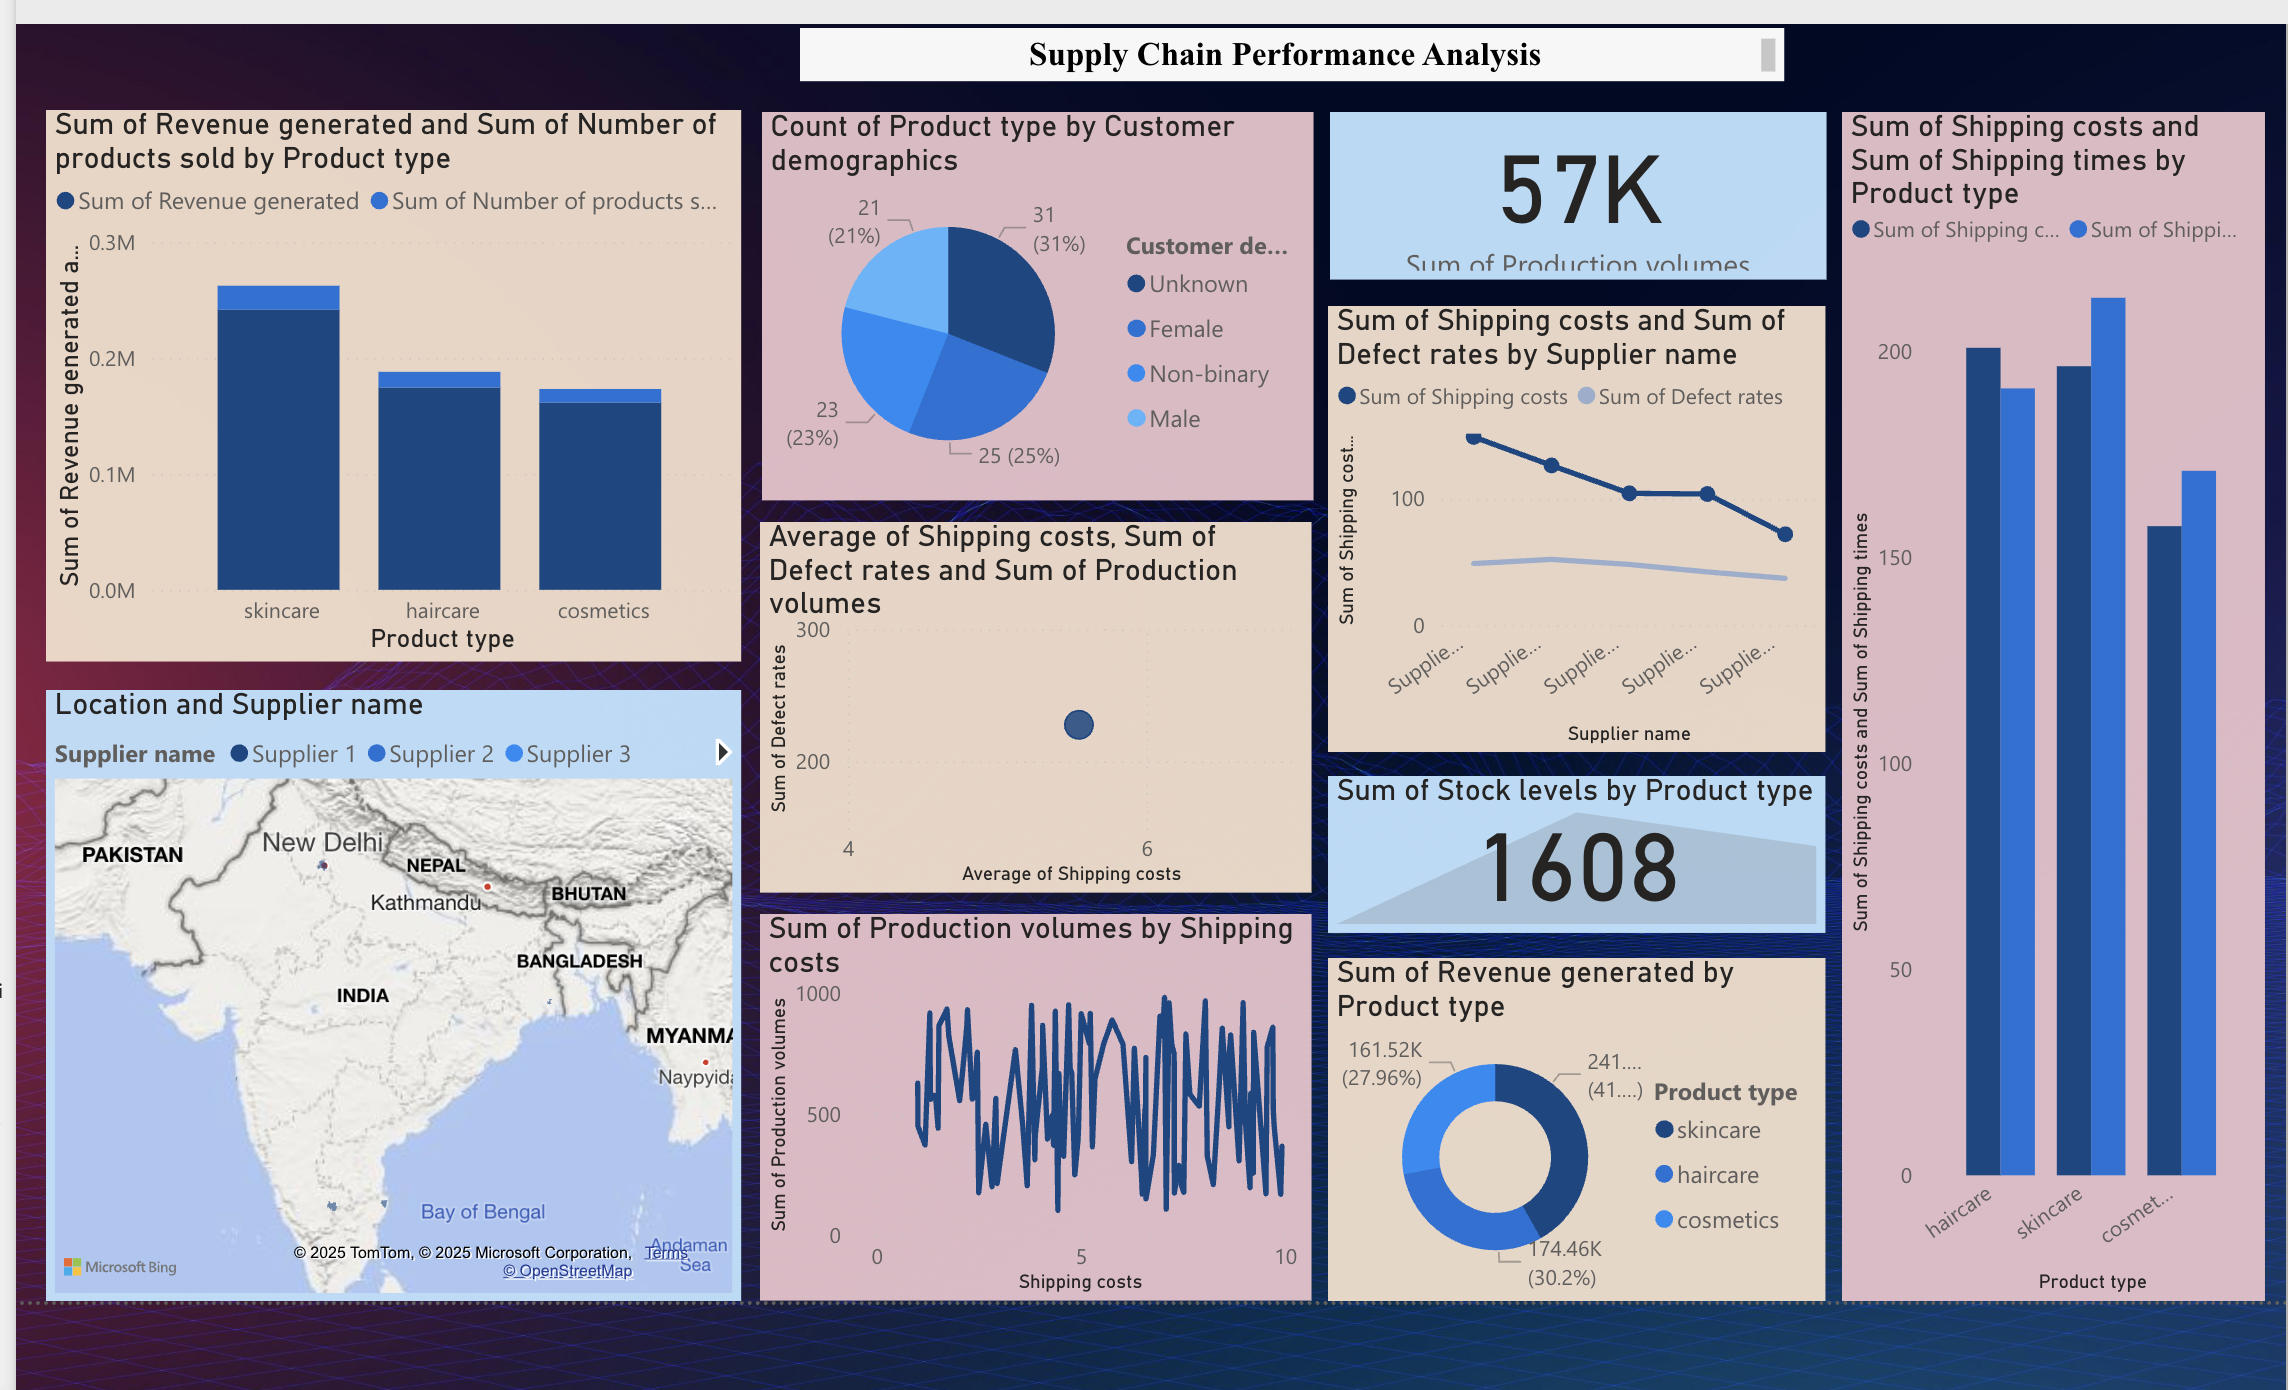

Layout of this report page (visuals, bound fields, positions):
{"tool":"powerbi","page":{"name":"supply-chain-analysis-powerbi-report","canvas":[1280,720],"ordinal":0},"visuals":[{"type":"columnChart","fields":{"Category":["supply_chain_data.Product type"],"Y":["Sum(supply_chain_data.Revenue generated)","Sum(supply_chain_data.Number of products sold)"]},"box":[16.8,48.8,392.1,311.2],"z":0},{"type":"filledMap","fields":{"Category":["supply_chain_data.Location"],"Series":["supply_chain_data.Supplier name"]},"box":[16.8,375.3,392.1,344.8],"z":1000},{"type":"lineChart","fields":{"Category":["supply_chain_data.Supplier name"],"Y":["Sum(supply_chain_data.Shipping costs)","Sum(supply_chain_data.Defect rates)"]},"box":[739.9,158.7,280.7,251.7],"z":2000},{"type":"pieChart","fields":{"Category":["supply_chain_data.Customer demographics"],"Y":["CountNonNull(supply_chain_data.Product type)"]},"box":[420.2,49.3,311.2,219.2],"z":3000},{"type":"card","fields":{"Values":["Sum(supply_chain_data.Production volumes)"]},"box":[740.5,49.3,280.1,94.7],"z":4000},{"type":"kpi","fields":{"Indicator":["Sum(supply_chain_data.Stock levels)"],"TrendLine":["supply_chain_data.Product type"]},"box":[739.9,424.1,280.7,88.5],"z":5000},{"type":"clusteredColumnChart","fields":{"Category":["supply_chain_data.Product type"],"Y":["Sum(supply_chain_data.Shipping costs)","Sum(supply_chain_data.Shipping times)"]},"box":[1029.7,49.3,238.6,670.5],"z":6000},{"type":"textbox","box":[442.2,2.6,555.1,29.8],"z":7000},{"type":"scatterChart","fields":{"X":["Avg(supply_chain_data.Shipping costs)"],"Y":["Sum(supply_chain_data.Defect rates)"],"Size":["Sum(supply_chain_data.Production volumes)"]},"box":[419.5,280.7,311.2,209],"z":8000},{"type":"lineChart","fields":{"Y":["Sum(supply_chain_data.Production volumes)"],"Category":["supply_chain_data.Shipping costs"]},"box":[419.5,501.9,311.2,218.2],"z":9000},{"type":"donutChart","fields":{"Y":["Sum(supply_chain_data.Revenue generated)"],"Category":["supply_chain_data.Product type"]},"box":[739.9,526.3,280.7,193.8],"z":9001}]}

Visuals, with their boxes in screenshot pixels (x1, y1, x2, y2):
columnChart - supply_chain_data.Product type x Sum(supply_chain_data.Revenue generated): (x1=47, y1=104, x2=739, y2=652)
filledMap - supply_chain_data.Location x supply_chain_data.Supplier name: (x1=47, y1=679, x2=739, y2=1287)
lineChart - supply_chain_data.Supplier name x Sum(supply_chain_data.Shipping costs): (x1=1322, y1=298, x2=1817, y2=741)
pieChart - supply_chain_data.Customer demographics x CountNonNull(supply_chain_data.Product type): (x1=759, y1=105, x2=1307, y2=491)
card - Sum(supply_chain_data.Production volumes): (x1=1323, y1=105, x2=1817, y2=272)
kpi - Sum(supply_chain_data.Stock levels) x supply_chain_data.Product type: (x1=1322, y1=765, x2=1817, y2=921)
clusteredColumnChart - supply_chain_data.Product type x Sum(supply_chain_data.Shipping costs): (x1=1833, y1=105, x2=2254, y2=1287)
textbox: (x1=797, y1=22, x2=1776, y2=75)
scatterChart - Avg(supply_chain_data.Shipping costs) x Sum(supply_chain_data.Defect rates): (x1=757, y1=513, x2=1306, y2=881)
lineChart - Sum(supply_chain_data.Production volumes) x supply_chain_data.Shipping costs: (x1=757, y1=903, x2=1306, y2=1287)
donutChart - Sum(supply_chain_data.Revenue generated) x supply_chain_data.Product type: (x1=1322, y1=946, x2=1817, y2=1287)
